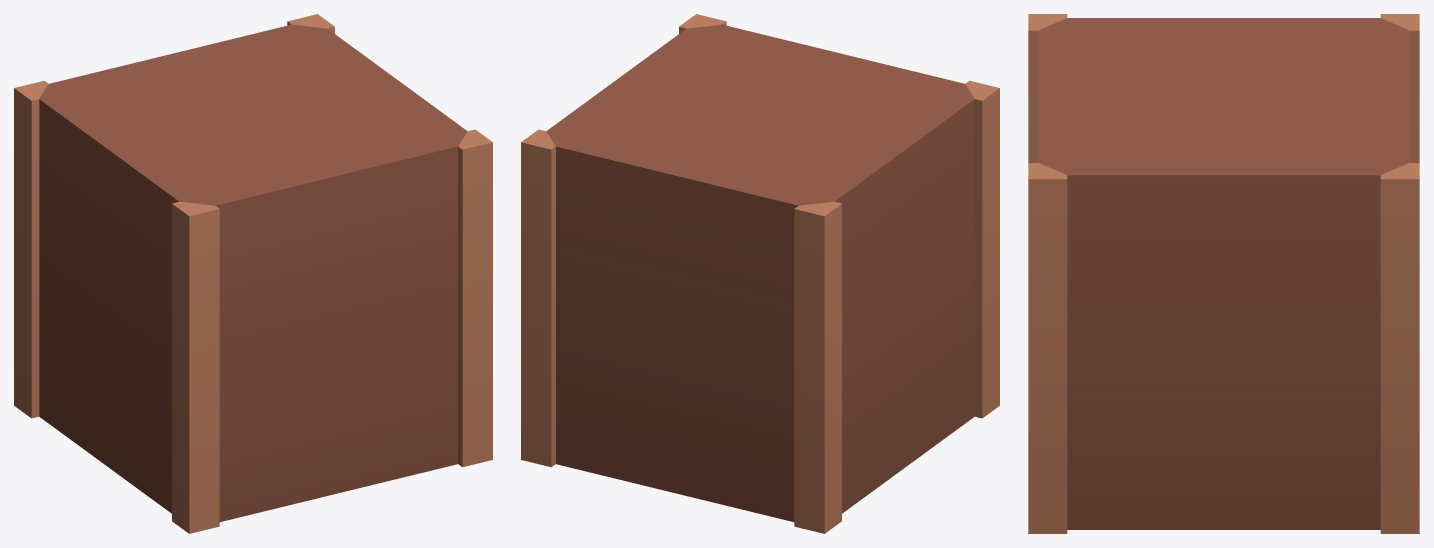
Rendered from kenney-fantasy-town-wall-wood-block.glb.
3 renders of one model, left to right at view 1: azimuth 30°, elevation 25°; view 2: azimuth 150°, elevation 25°; view 3: azimuth 270°, elevation 25°, orthographic. The views are drawn at different scales.
Visible parts, largest first — view 1: wall-wood-block; view 2: wall-wood-block; view 3: wall-wood-block.
Part boxes in pixels (box(x1,y1,x2,y2)): wall-wood-block: box(14, 14, 492, 533); wall-wood-block: box(521, 14, 999, 533); wall-wood-block: box(1028, 14, 1419, 533).
Size of the model in its own units: 1 by 1 by 1.
Materials: 1 (1 with a texture image).
